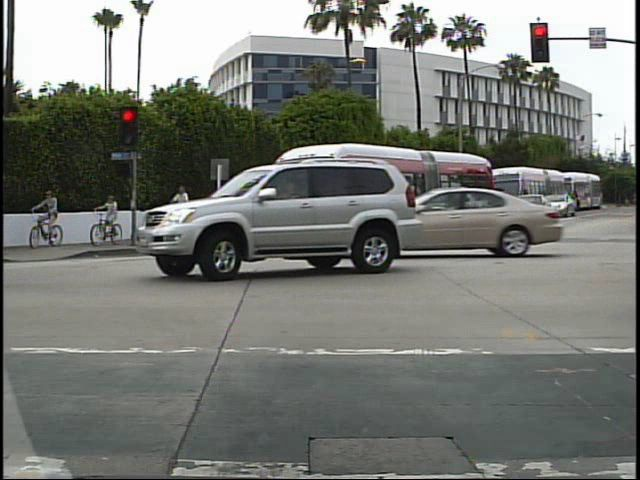person: (97, 194, 121, 246)
